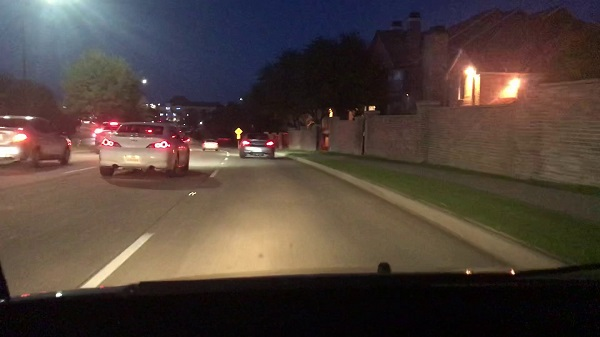car: (101, 124, 193, 176), (1, 114, 73, 168), (237, 132, 276, 160), (201, 139, 219, 150)
